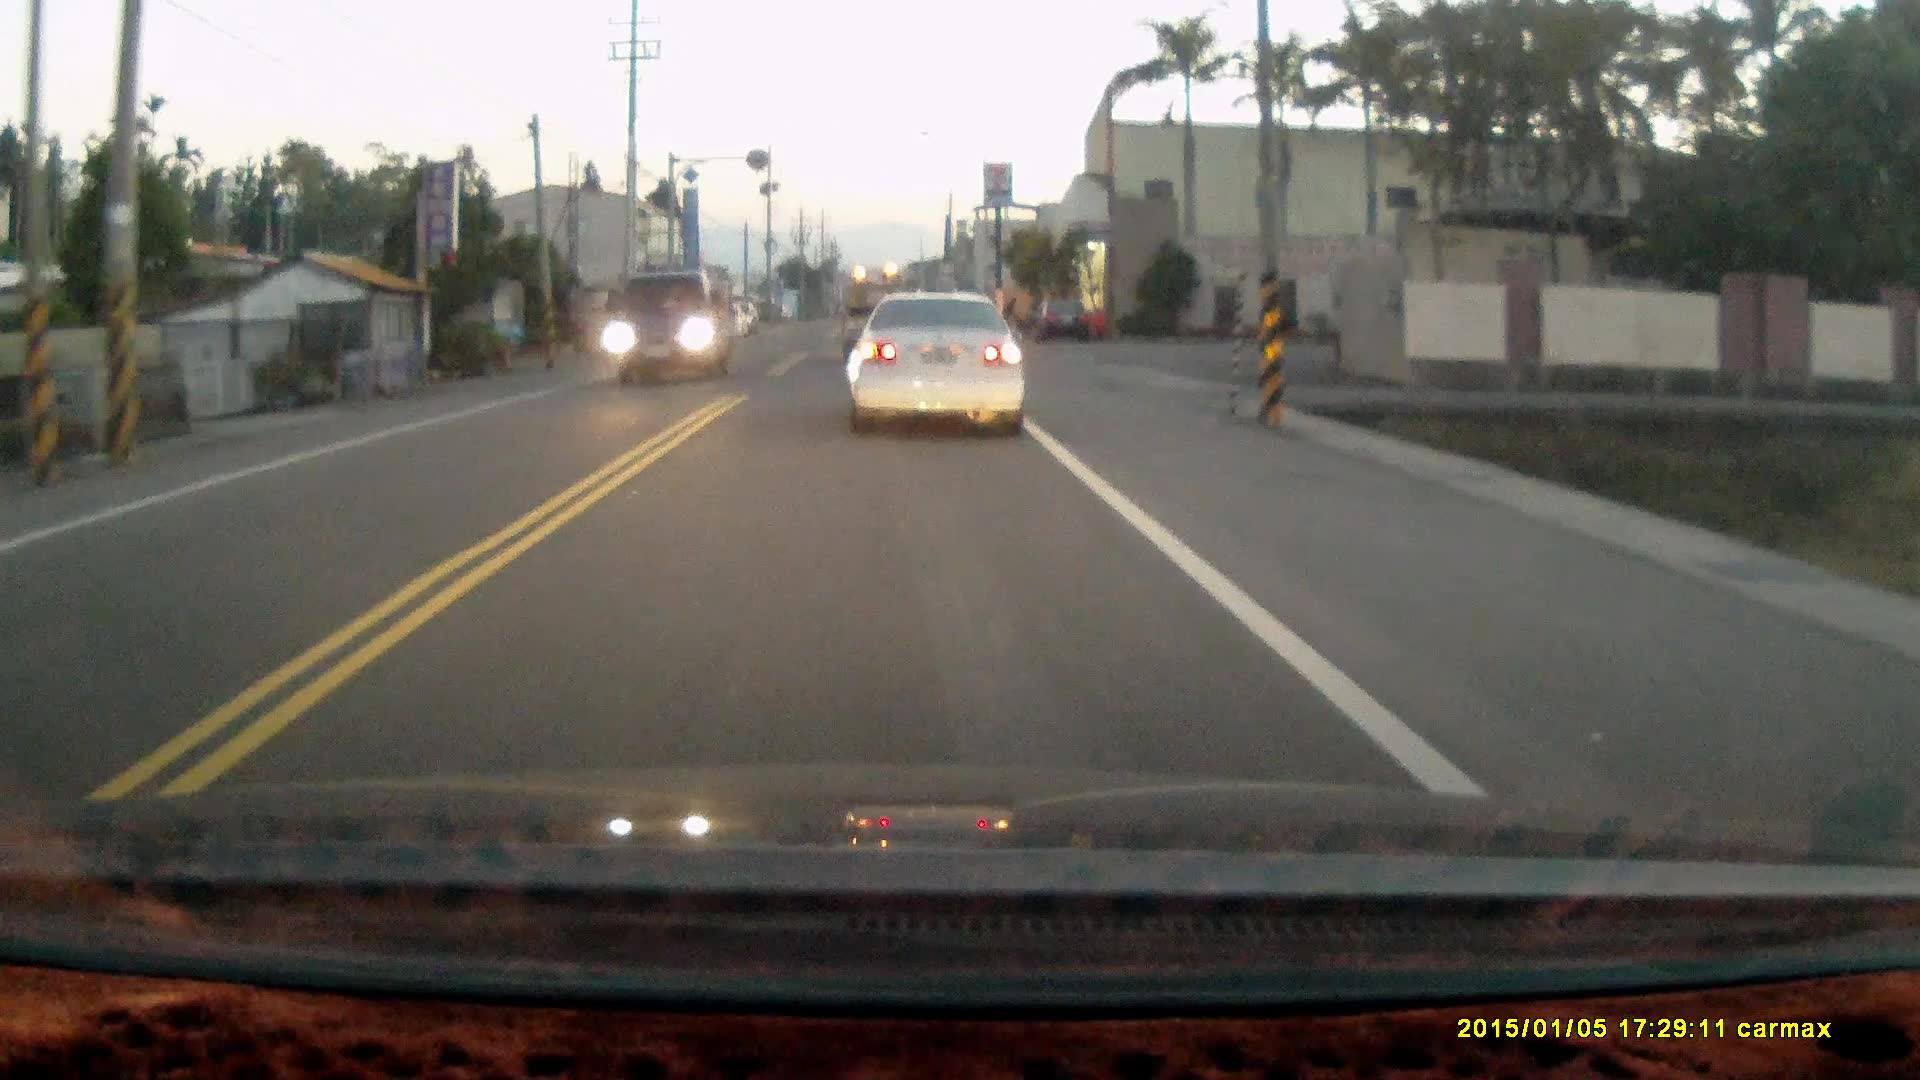vehicle: (855, 286, 1029, 440), (608, 268, 740, 384), (1036, 290, 1095, 340), (712, 301, 760, 336)
